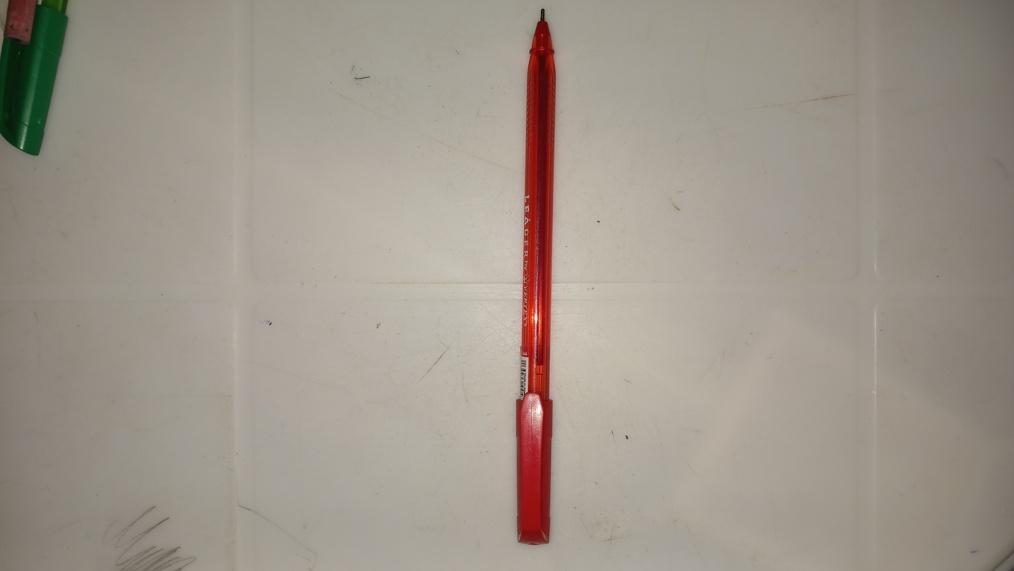pen: (514, 4, 557, 544)
